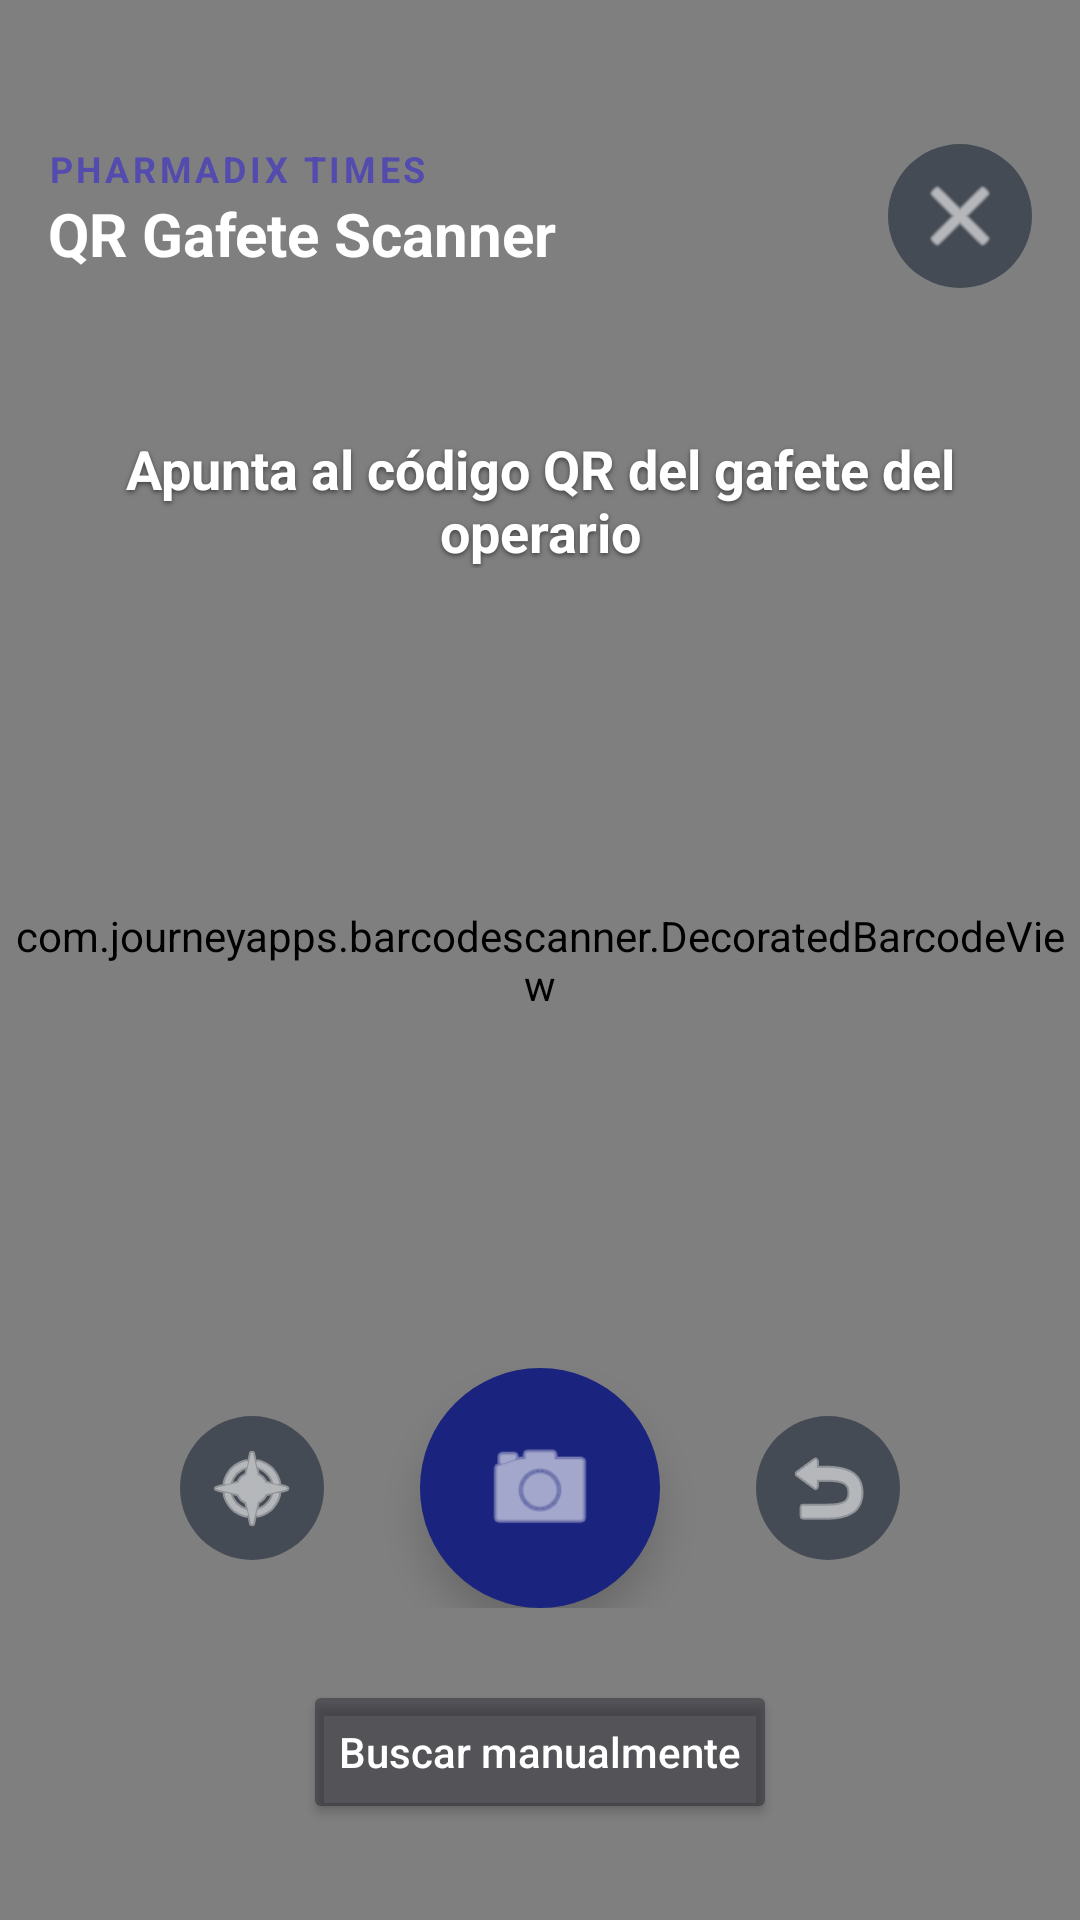

Icons on this 1080×1920 Android screen, each with its box as [x1=x1, y1=y1, x2=x2, y2=y2]:
camera: [x1=494, y1=1449, x2=586, y2=1523]
close clear cancel: [x1=888, y1=144, x2=1032, y2=288]
compass: [x1=180, y1=1416, x2=324, y2=1560]
revert: [x1=756, y1=1416, x2=900, y2=1560]
